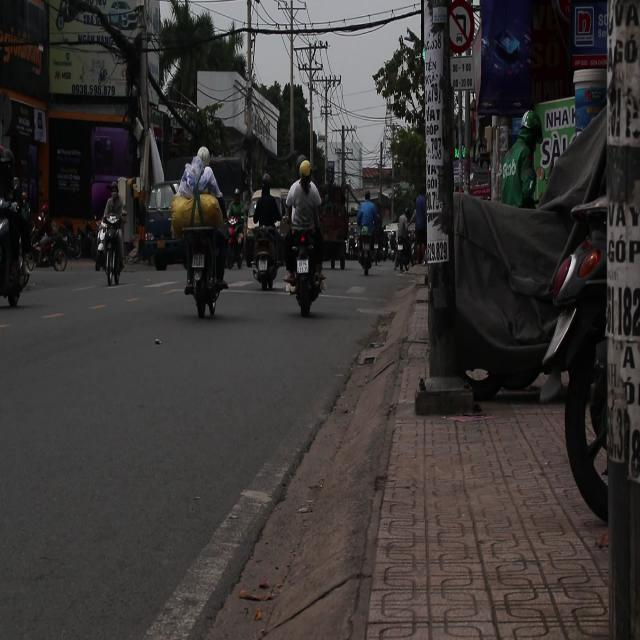motorbike: (0, 182, 32, 330), (180, 227, 228, 320), (286, 225, 327, 318), (23, 224, 78, 280), (351, 224, 389, 296), (98, 221, 133, 289), (250, 223, 282, 294), (228, 216, 245, 272)
truck: (141, 162, 248, 286)
